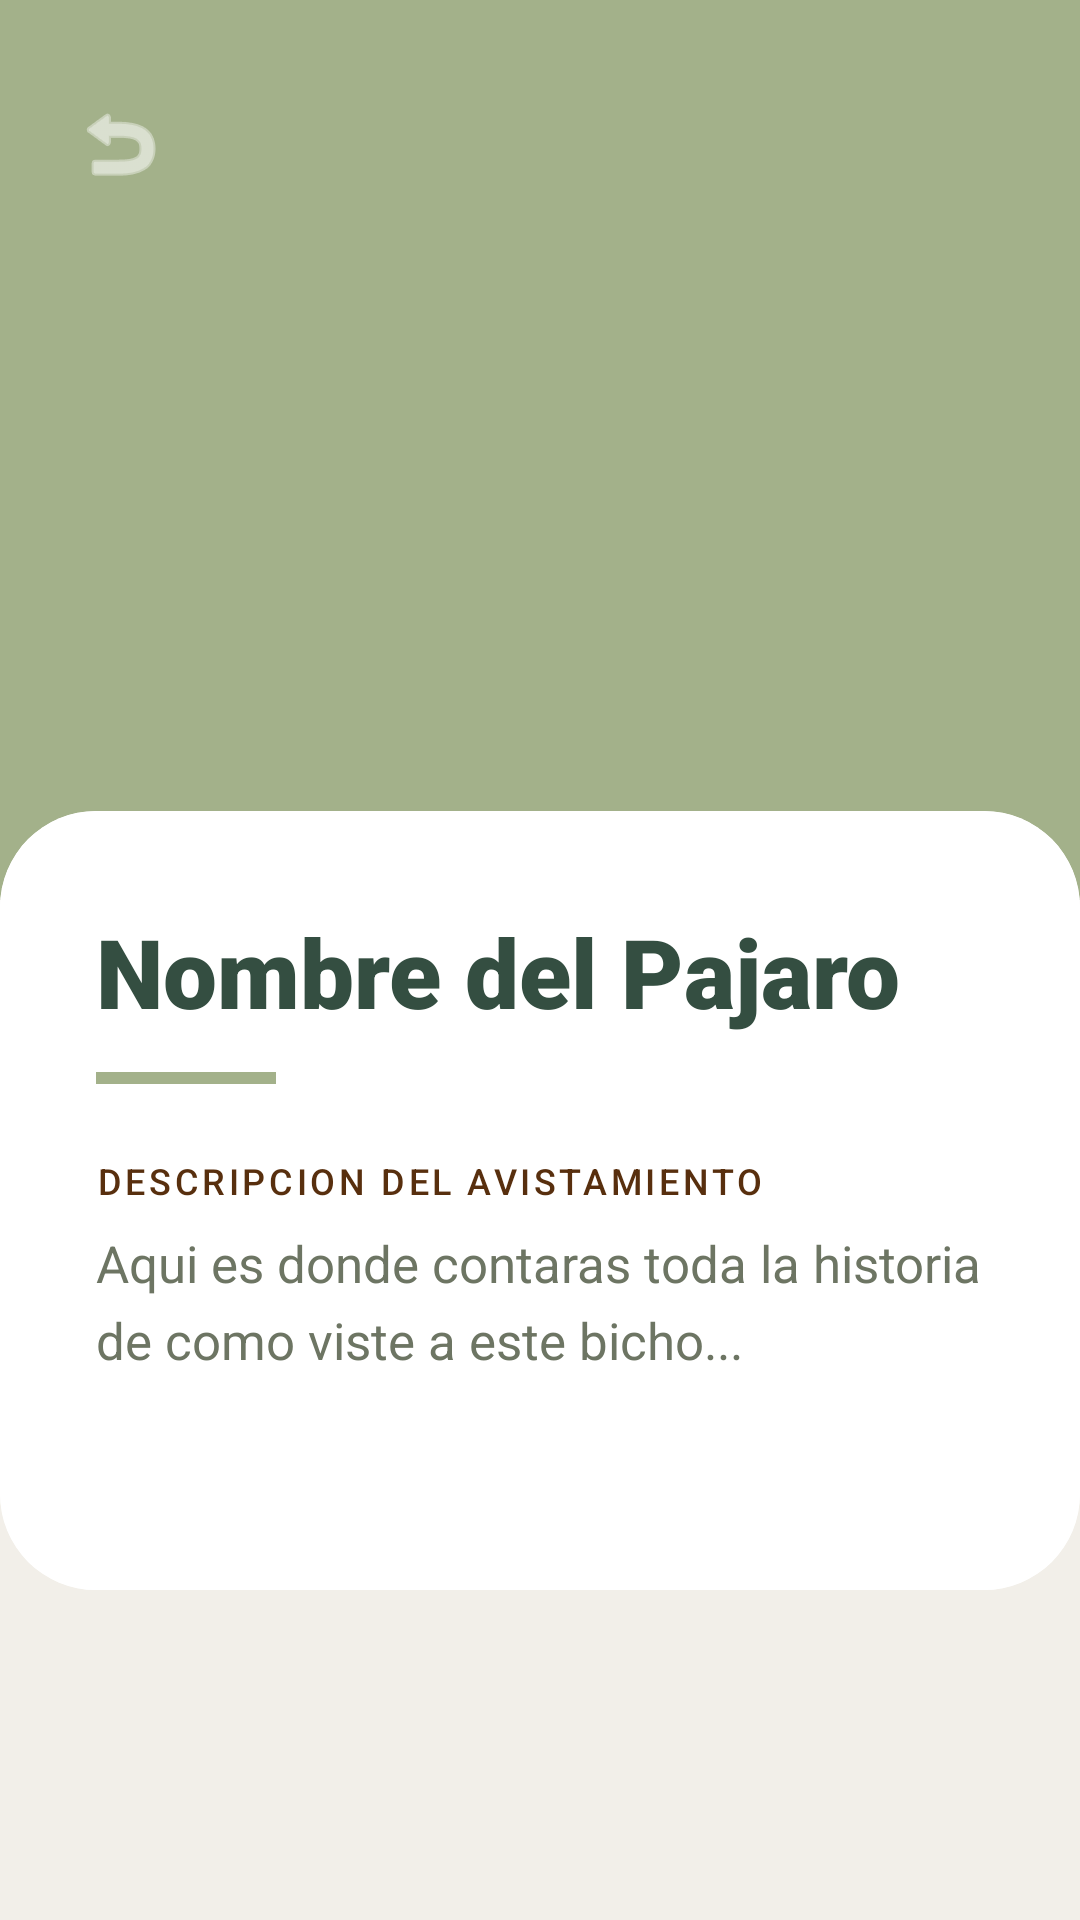

Point at icon controls on the screen. Image size 1080×1920, points as [x,y].
revert: [121,145]
